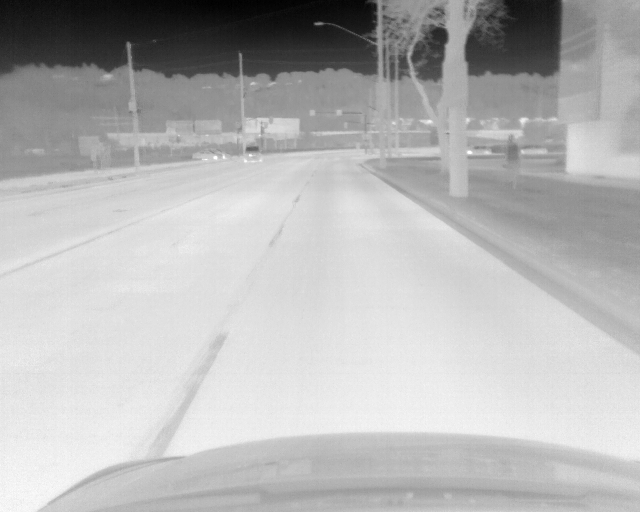car: (192, 148, 225, 160), (243, 145, 263, 163), (520, 144, 549, 153), (467, 144, 492, 154)
